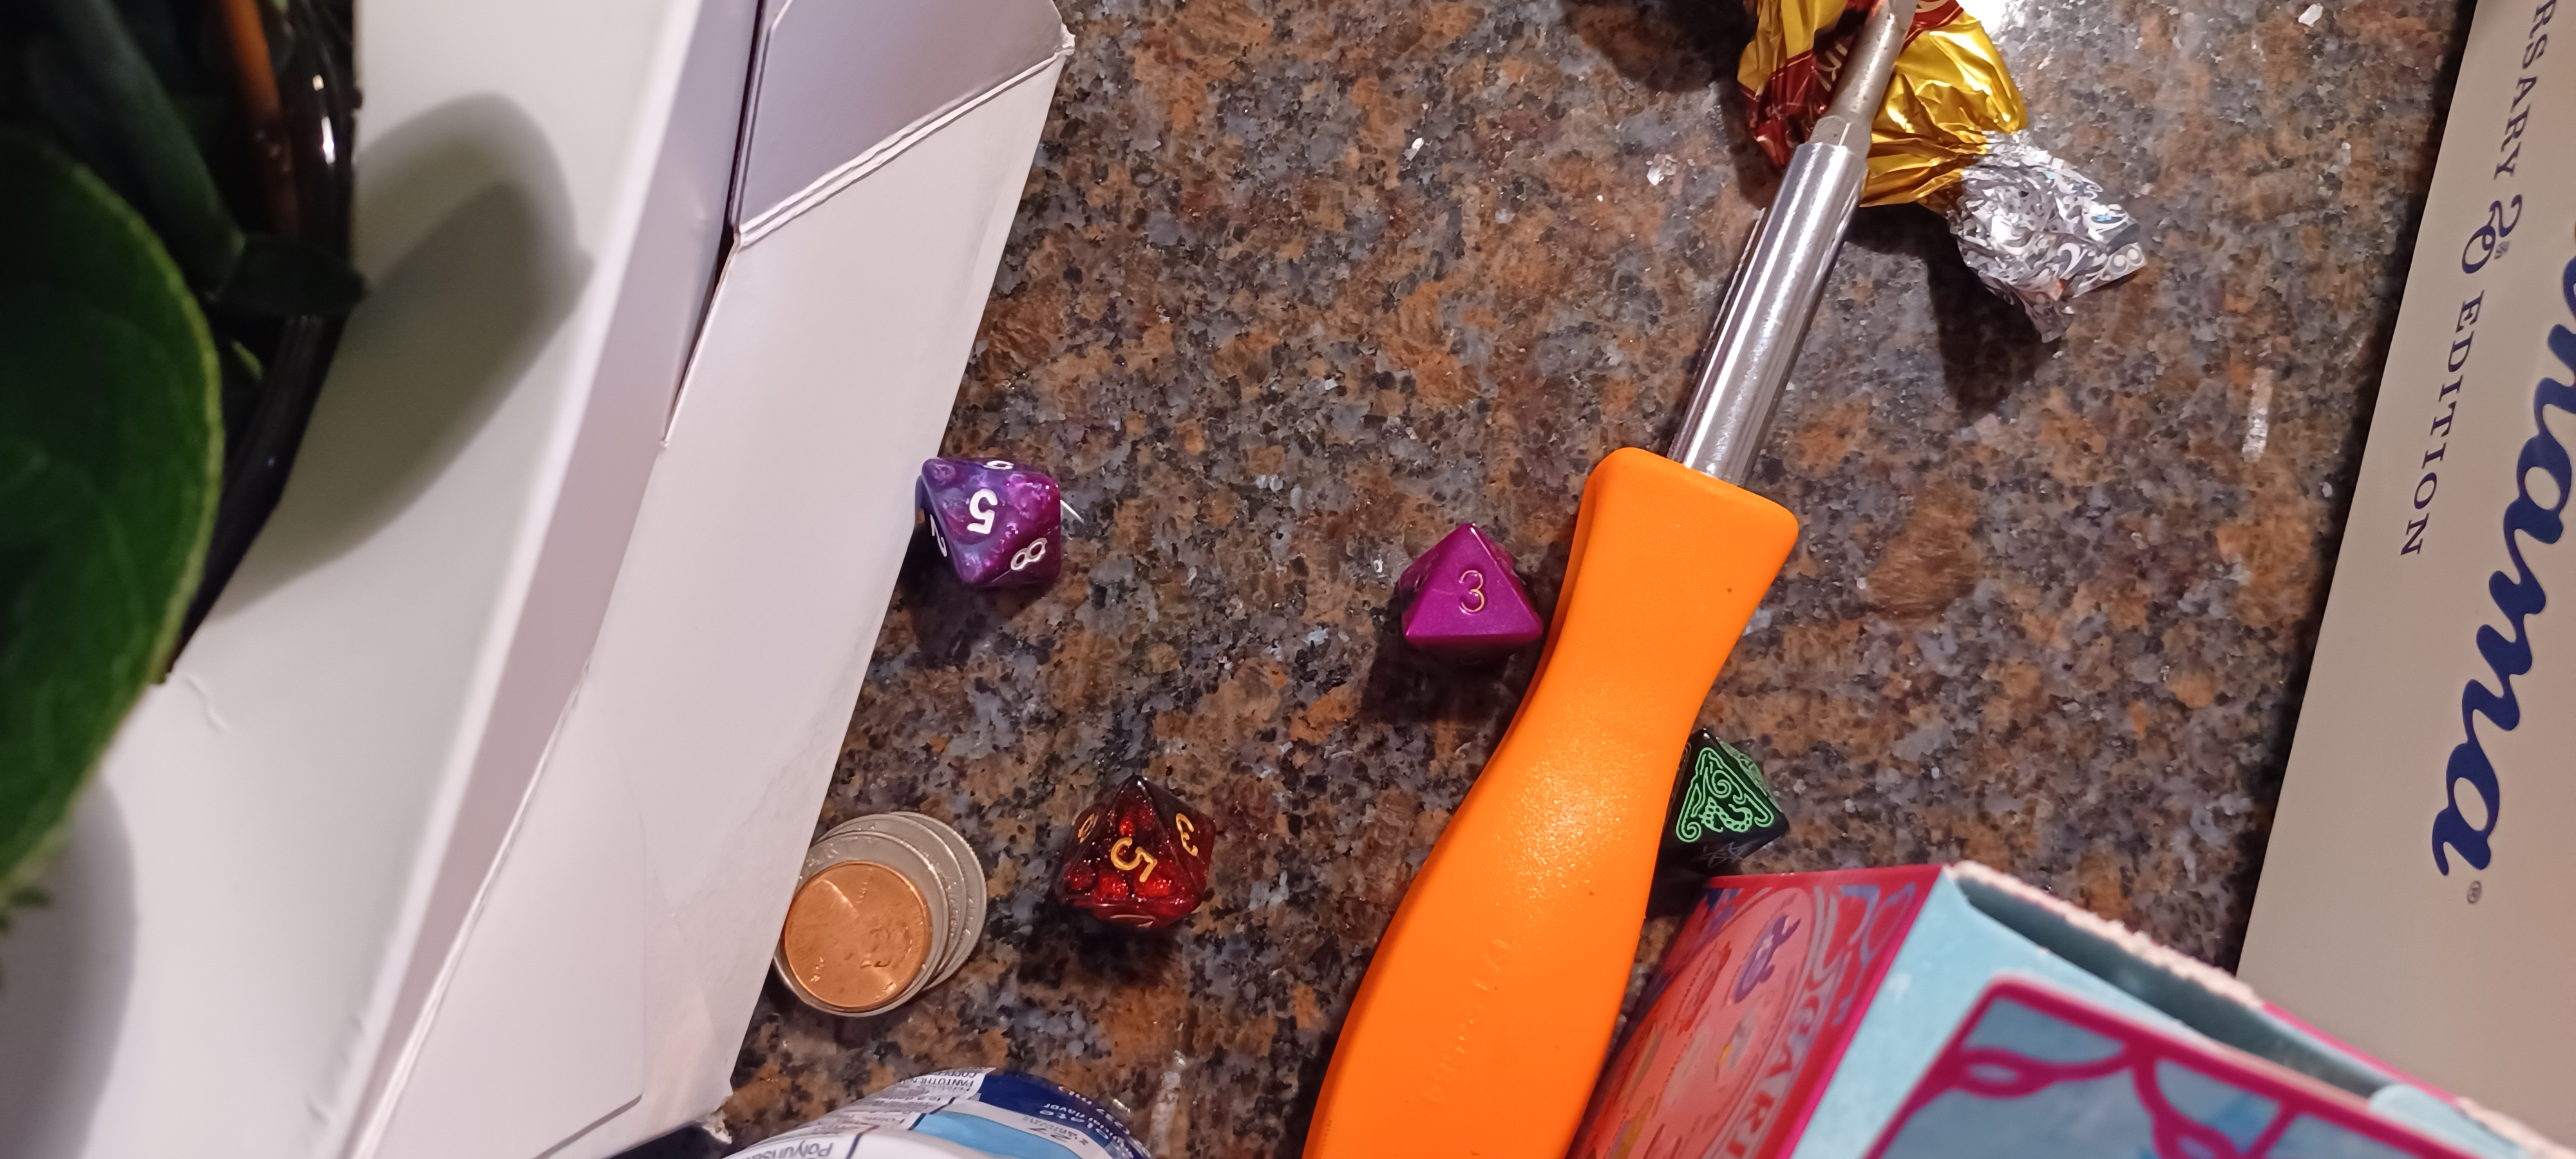five: (1027, 754, 1252, 977), (876, 430, 1112, 614)
three: (1357, 502, 1589, 708)
two: (1646, 708, 1817, 885)
